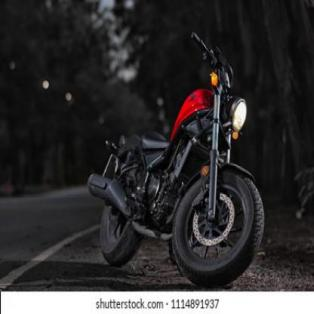Motocicleta: (86, 35, 266, 288)
